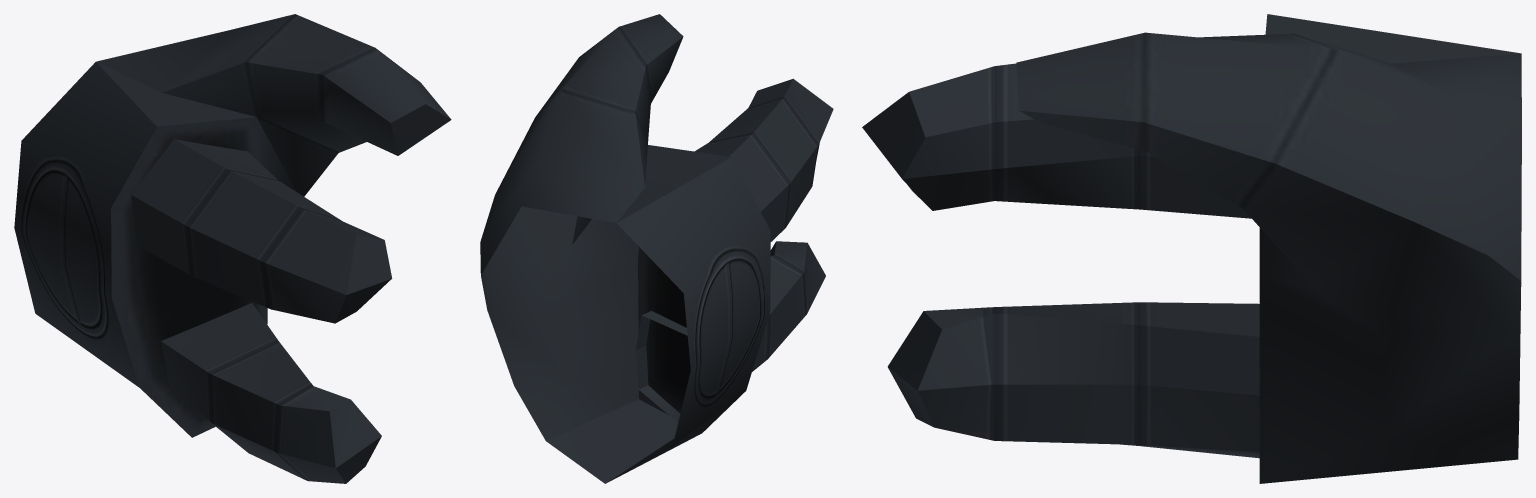
File: Assist_jixiebi03_huai.FBX
3 views of the same model, side by side, from view 1: azimuth 30°, elevation 25°; view 2: azimuth 150°, elevation 25°; view 3: azimuth 270°, elevation 25° (orthographic). The views are drawn at different scales.
Visible parts, largest first — view 1: Assist_jixiebi03_huai; view 2: Assist_jixiebi03_huai; view 3: Assist_jixiebi03_huai.
Boxes of the visible parts, box(x1,y1,x2,y2) form: Assist_jixiebi03_huai: box(14, 14, 451, 483); Assist_jixiebi03_huai: box(480, 14, 833, 483); Assist_jixiebi03_huai: box(862, 14, 1521, 483).
Bounding box in the file's own units: 0.9283 × 1.3 × 1.49.
1 material, 1 textured.
